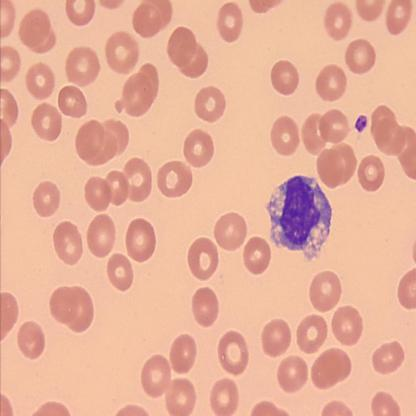Monocyte: (264, 172, 334, 262)
